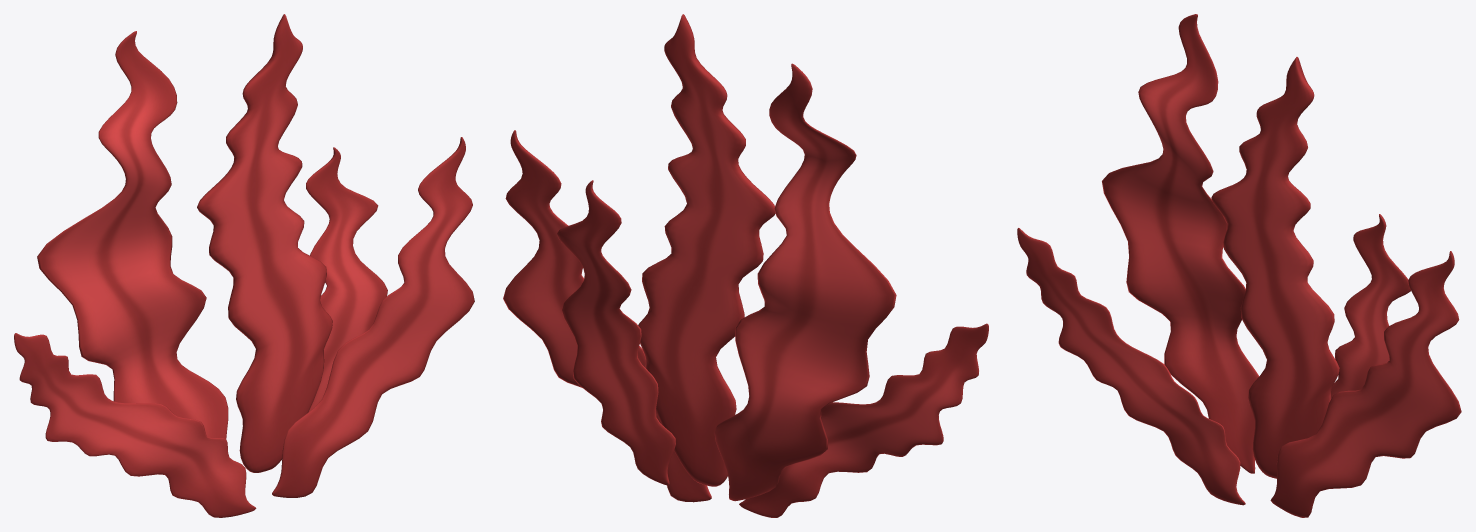
File: Seaweed_Red.FBX
3 renders of one model, left to right at view 1: azimuth 30°, elevation 25°; view 2: azimuth 150°, elevation 25°; view 3: azimuth 330°, elevation 25°, orthographic. The views are drawn at different scales.
Visible parts, largest first — view 1: Wavey; view 2: Wavey; view 3: Wavey.
Boxes of the visible parts, x1,y1,x2,y2 form: Wavey: (14, 14, 474, 517); Wavey: (503, 14, 988, 517); Wavey: (1017, 14, 1461, 517).
Bounding box in the file's own units: 7.55 × 7.44 × 1.03.
